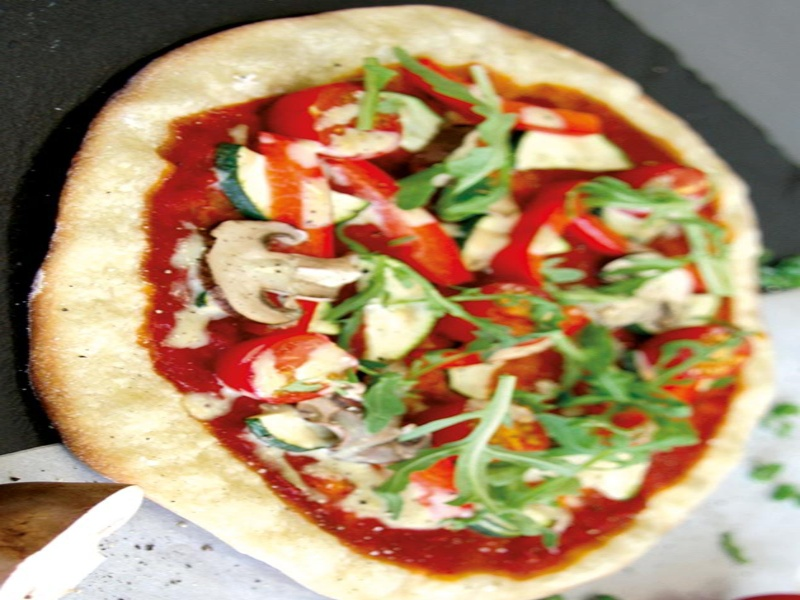champignon: (202, 211, 360, 335)
